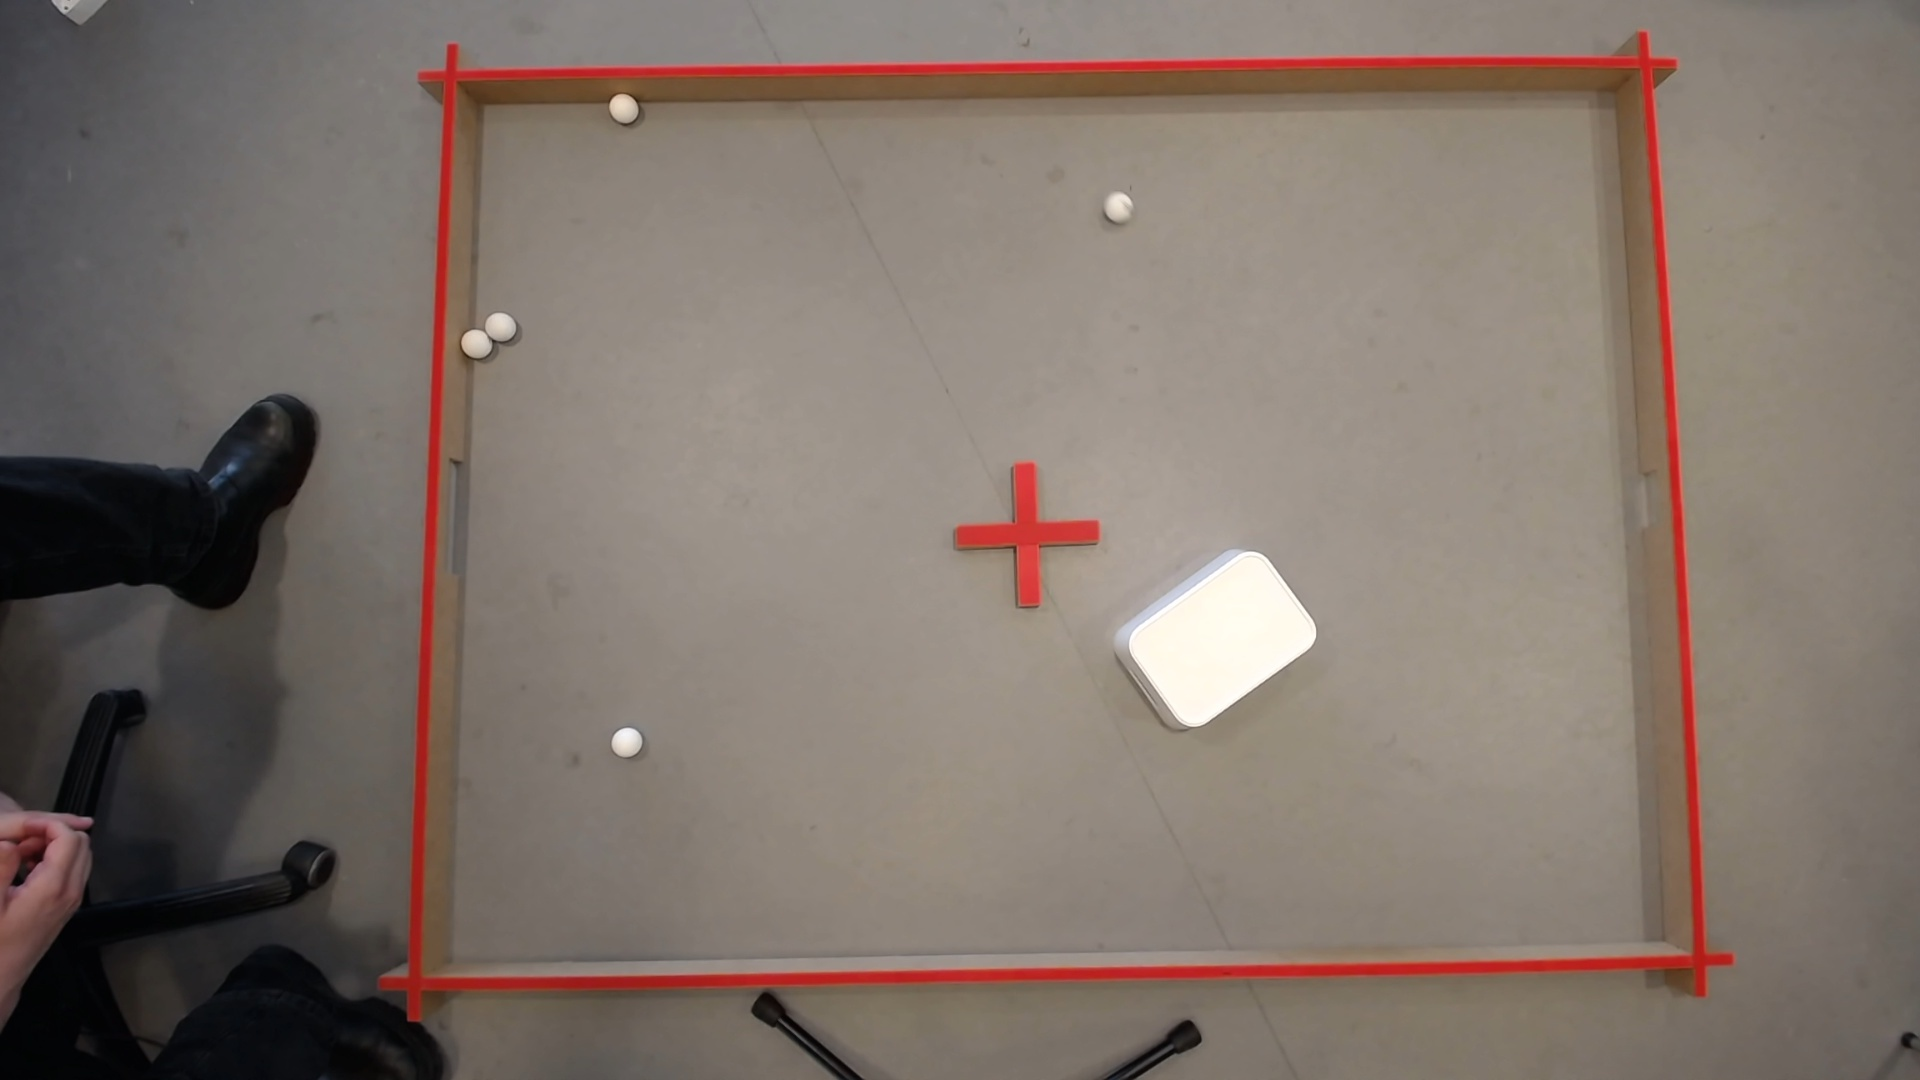balls: (1113, 533, 1325, 736), (608, 723, 645, 757), (604, 90, 636, 121), (1102, 187, 1133, 219), (484, 307, 514, 336)
car: (464, 328, 488, 348)
